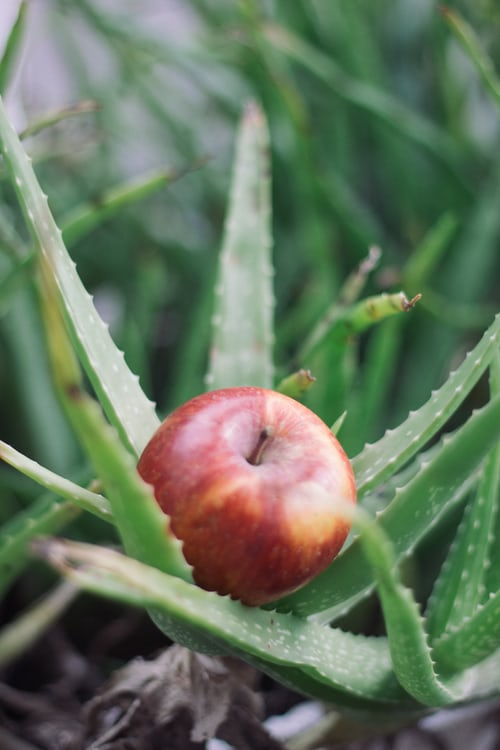apple: (133, 380, 357, 597)
